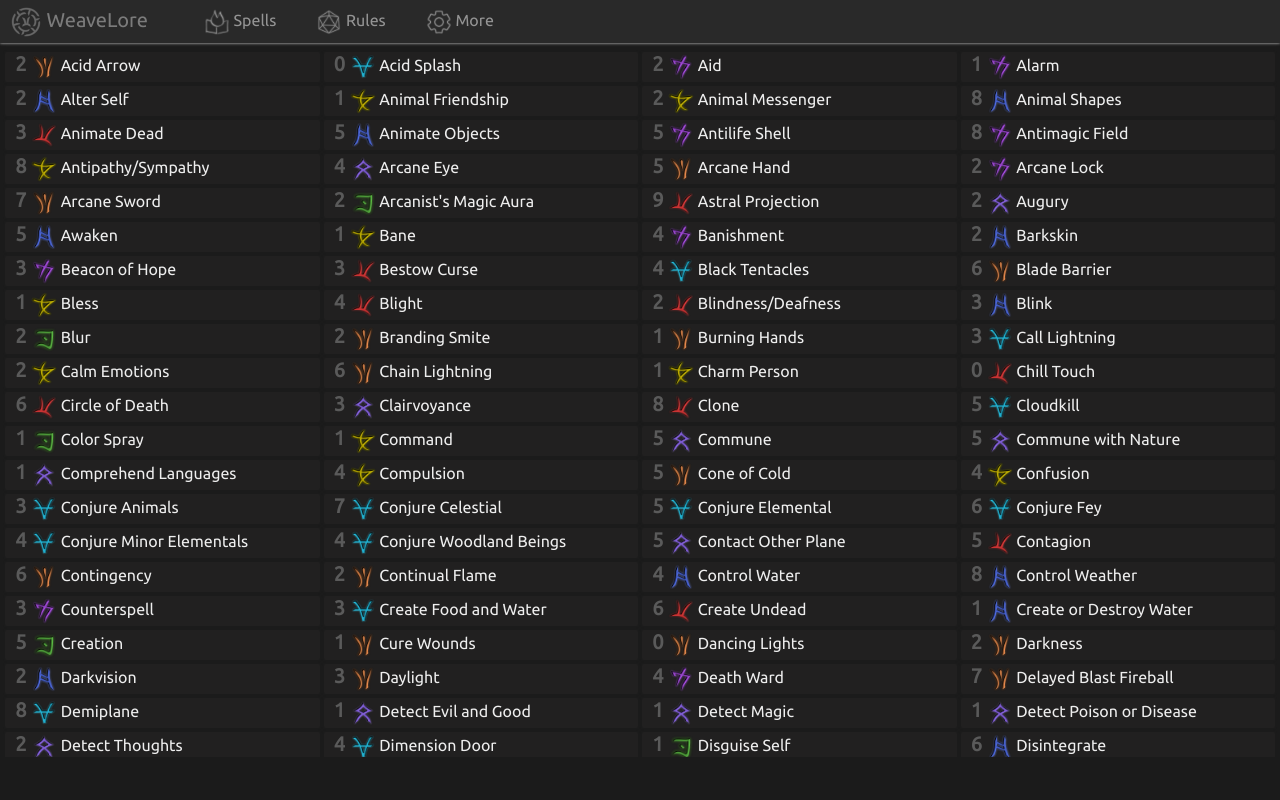
Test: Rules page › opens individual rules correctly
Click the link "Rules" at [351, 22], box [316, 9, 385, 35]
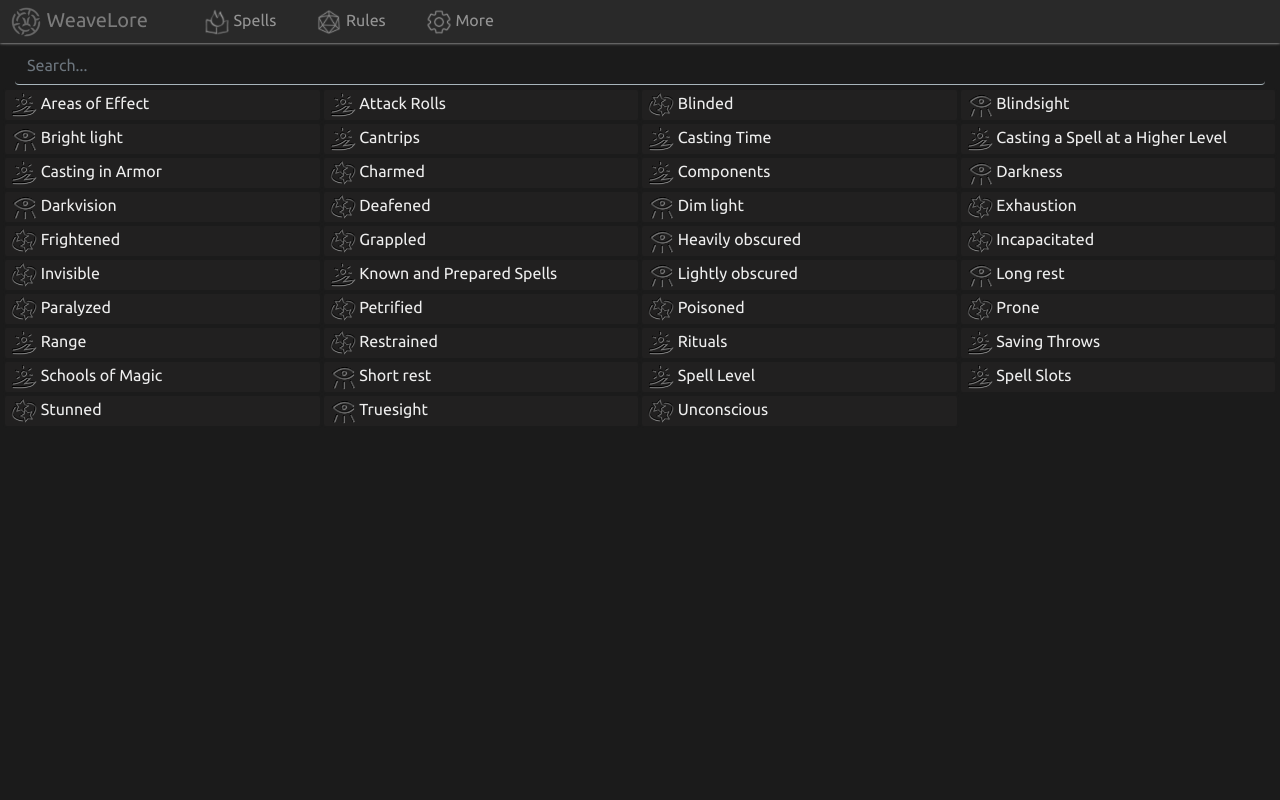
Click the text "Blinded" at [800, 105], box [640, 88, 959, 122]
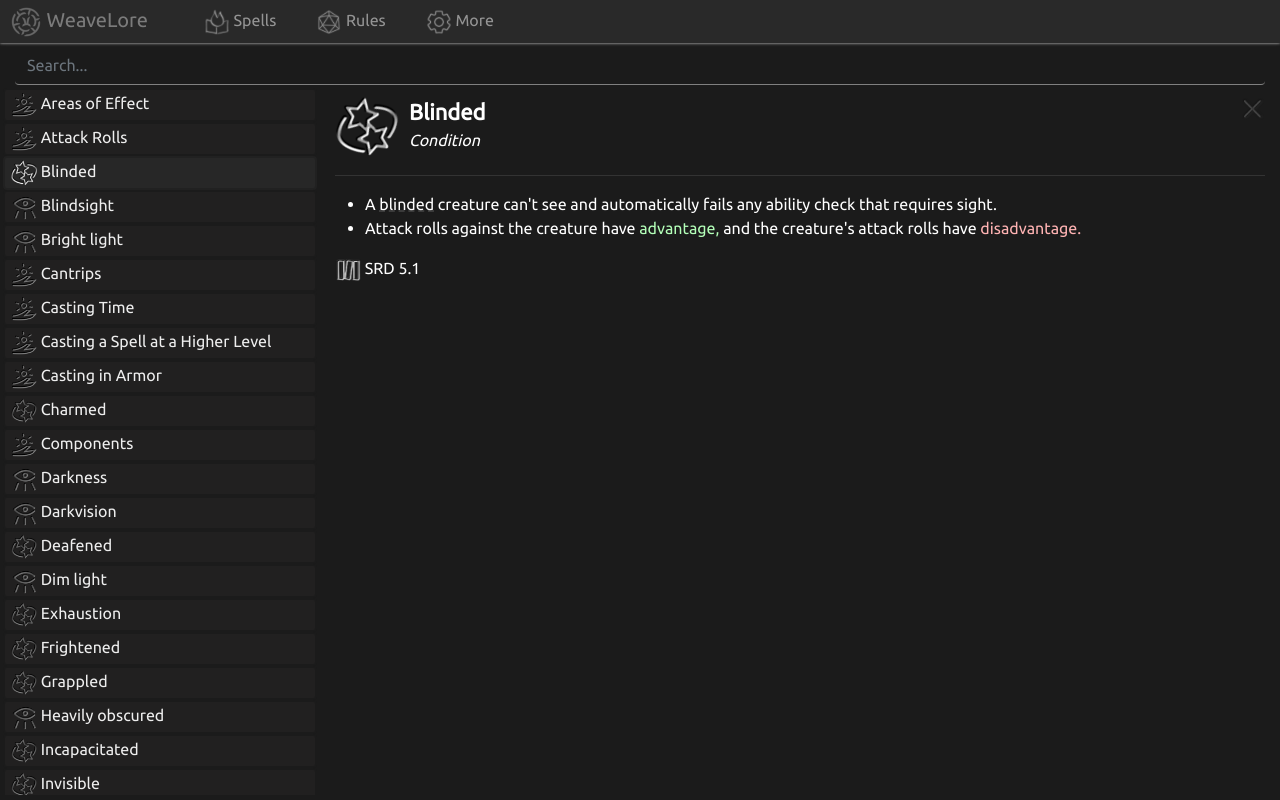
Expected: the text "Condition" is shown, [409, 131, 480, 149]
Expected: the list item "A blinded creature can't see and automatically fails any ability check that requires sight." is shown, [365, 195, 997, 213]
Expected: the text "SRD 5.1" is shown, [335, 259, 420, 277]
